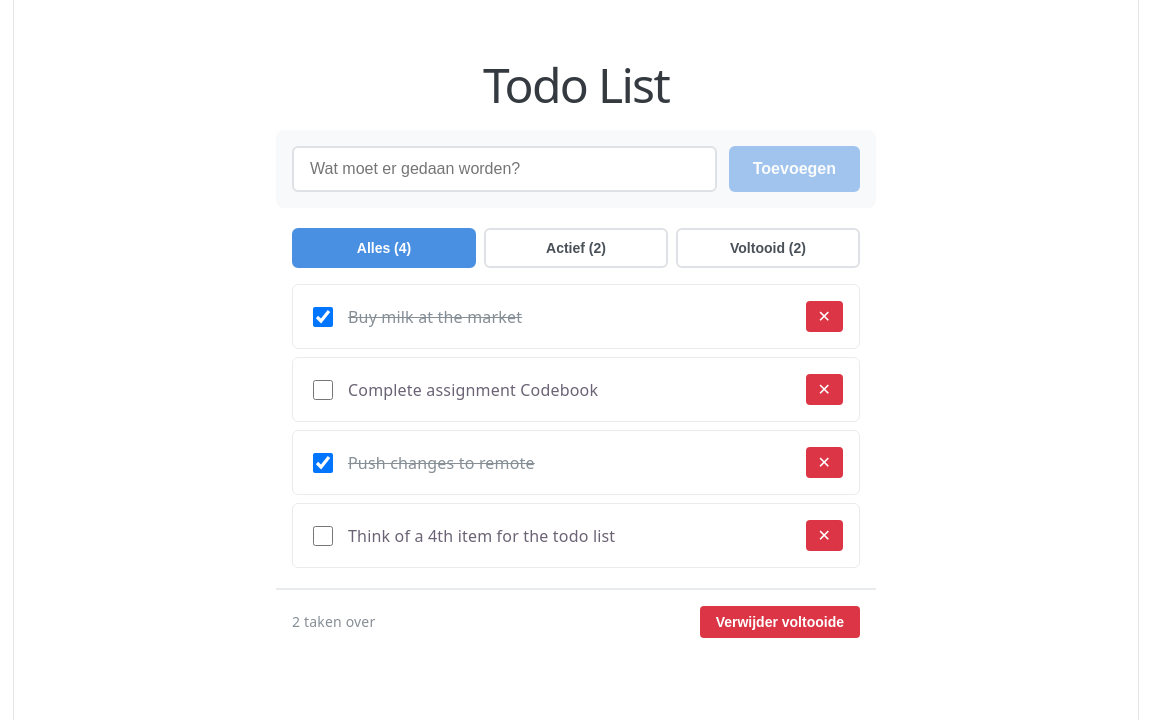
it: TodoList › should delete all completed todo items when clear-button is clicked
Click the button "Verwijder voltooide" at (780, 622), box top-left (700, 606), bottom-right (860, 638)
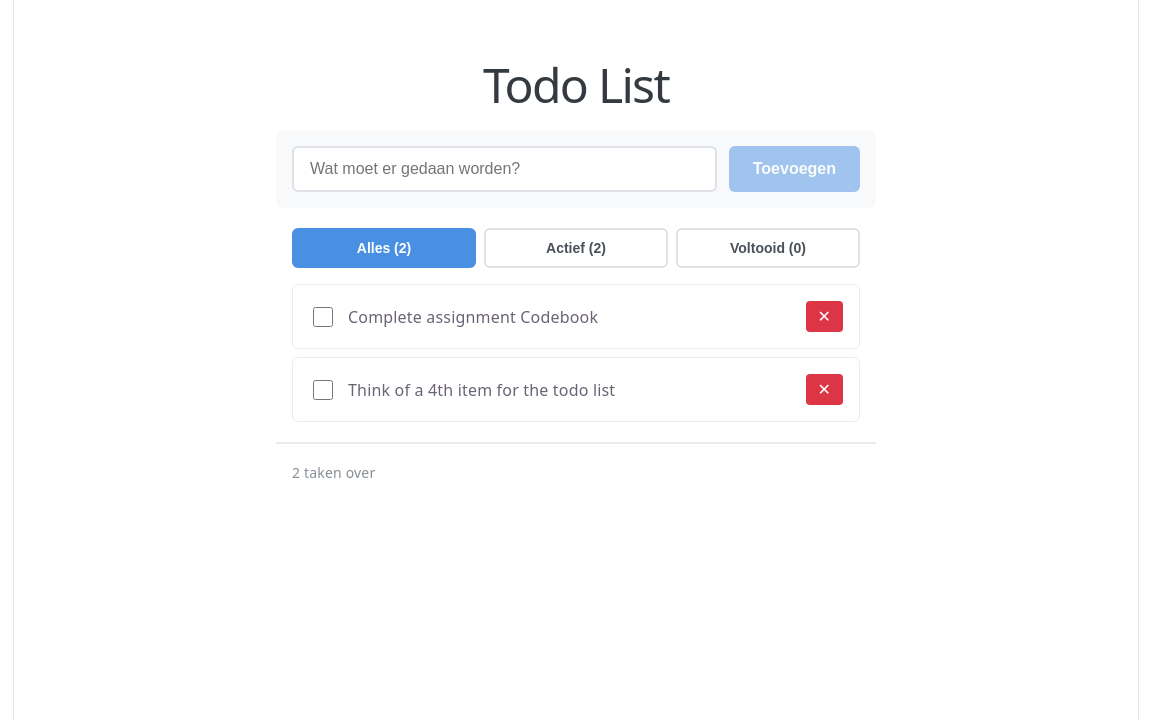
Check: the number of "TodoItem" components is 2, box top-left (292, 284), bottom-right (860, 349); top-left (292, 357), bottom-right (860, 422)
